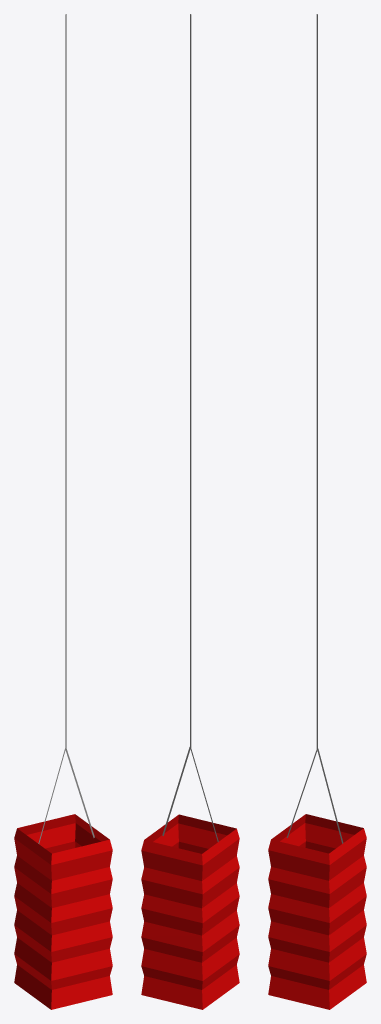
The model's file is Paperlight_05.glb.
3 views of the same model, side by side, from view 1: azimuth 30°, elevation 25°; view 2: azimuth 150°, elevation 25°; view 3: azimuth 330°, elevation 25° (orthographic).
Parts seen in each view (by area): view 1: paperlight_05_geo; view 2: paperlight_05_geo; view 3: paperlight_05_geo.
Boxes of the visible parts, x1=… form: paperlight_05_geo: x1=14, y1=14, x2=112, y2=1009; paperlight_05_geo: x1=141, y1=14, x2=239, y2=1009; paperlight_05_geo: x1=268, y1=14, x2=366, y2=1009.
Size of what is drawn, in the model's own units: 0.1375 by 2.08 by 0.1431.
Materials: 1 (1 with a texture image).
